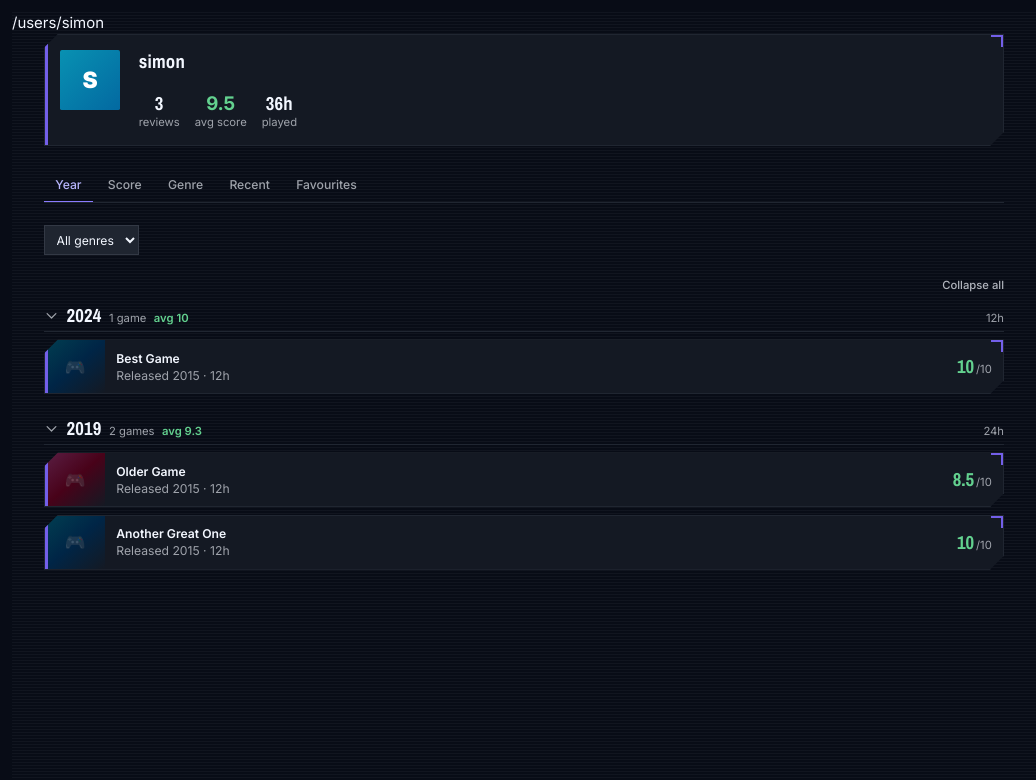
profile grouped views › switches view from a tab
This screenshot has width=1036, height=780.
Expected: the headings read "2024", "2019", in this order, [44, 304, 102, 327]; [44, 417, 102, 440]
Click the link "Score".
click(125, 184)  # box [108, 177, 142, 192]
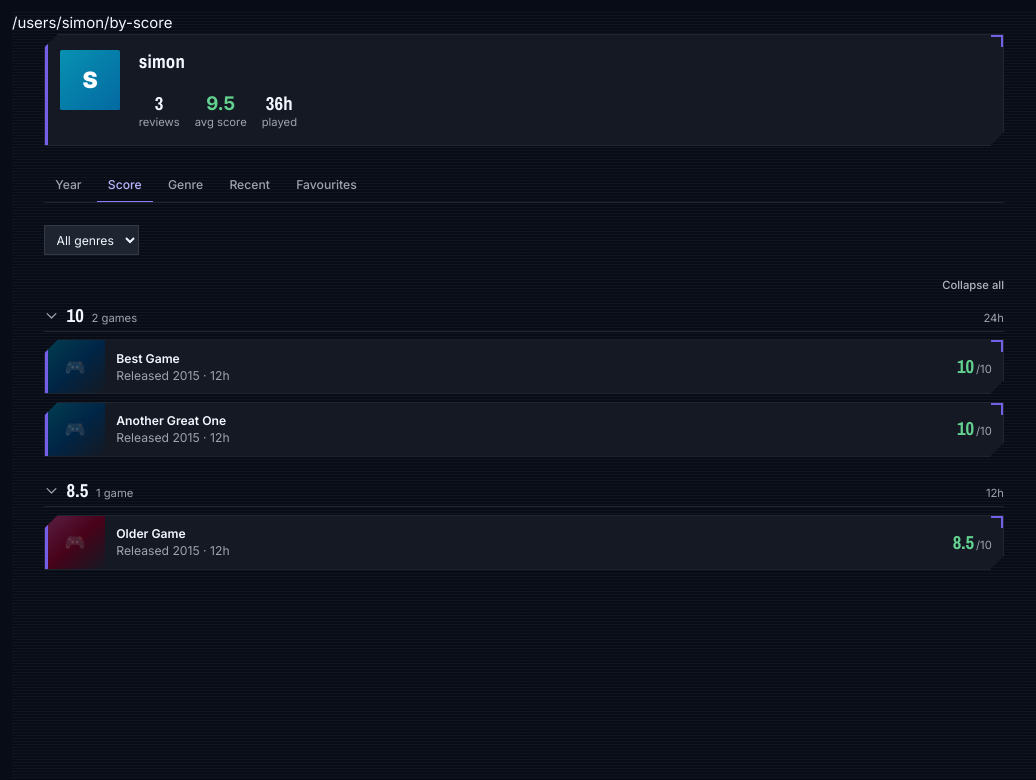
Now the headings read "10", "8.5", in this order, box [44, 304, 84, 327]; [44, 479, 88, 502]
